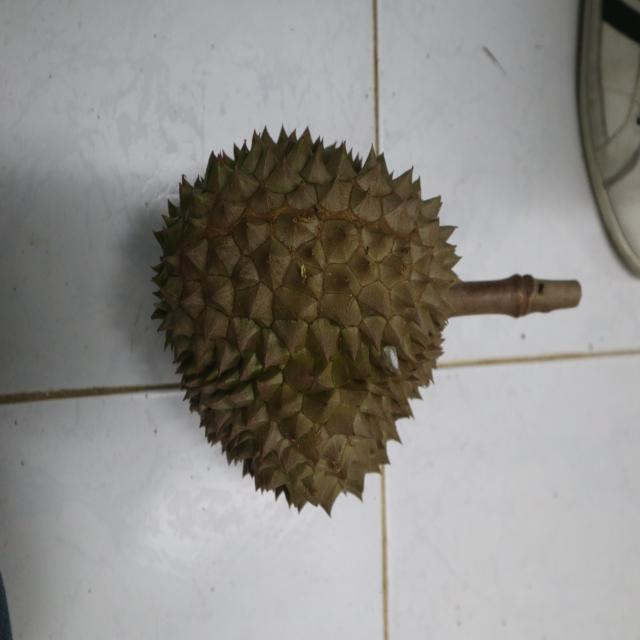mature: (153, 128, 463, 514)
